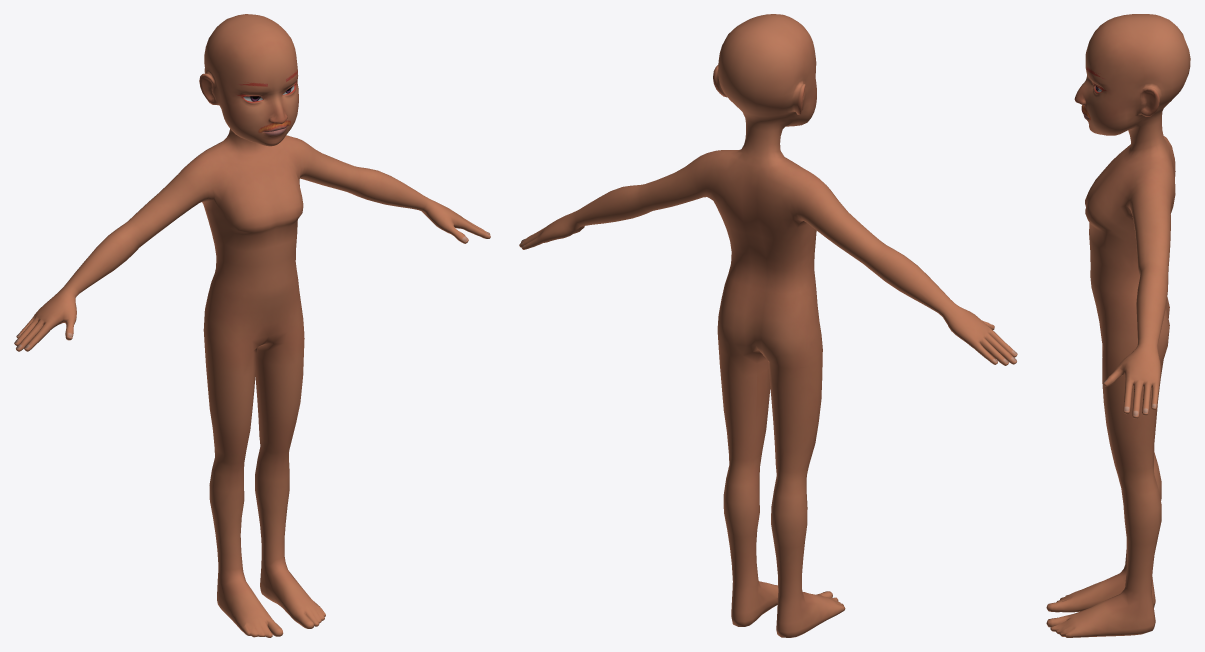
Rendered from frame_0091.glb.
3 views of the same model, side by side, from view 1: azimuth 30°, elevation 25°; view 2: azimuth 150°, elevation 25°; view 3: azimuth 270°, elevation 25° (orthographic). The views are drawn at different scales.
Parts seen in each view (by area): view 1: frame_0091_head_geo; view 2: frame_0091_head_geo; view 3: frame_0091_head_geo.
Boxes of the visible parts, box(x1,y1,x2,y2) form: frame_0091_head_geo: box(14, 14, 490, 637); frame_0091_head_geo: box(519, 14, 1017, 637); frame_0091_head_geo: box(1046, 14, 1190, 637).
Bounding box in the file's own units: 1.28 × 1.5 × 0.3253.
Materials: 3 (3 with a texture image).
